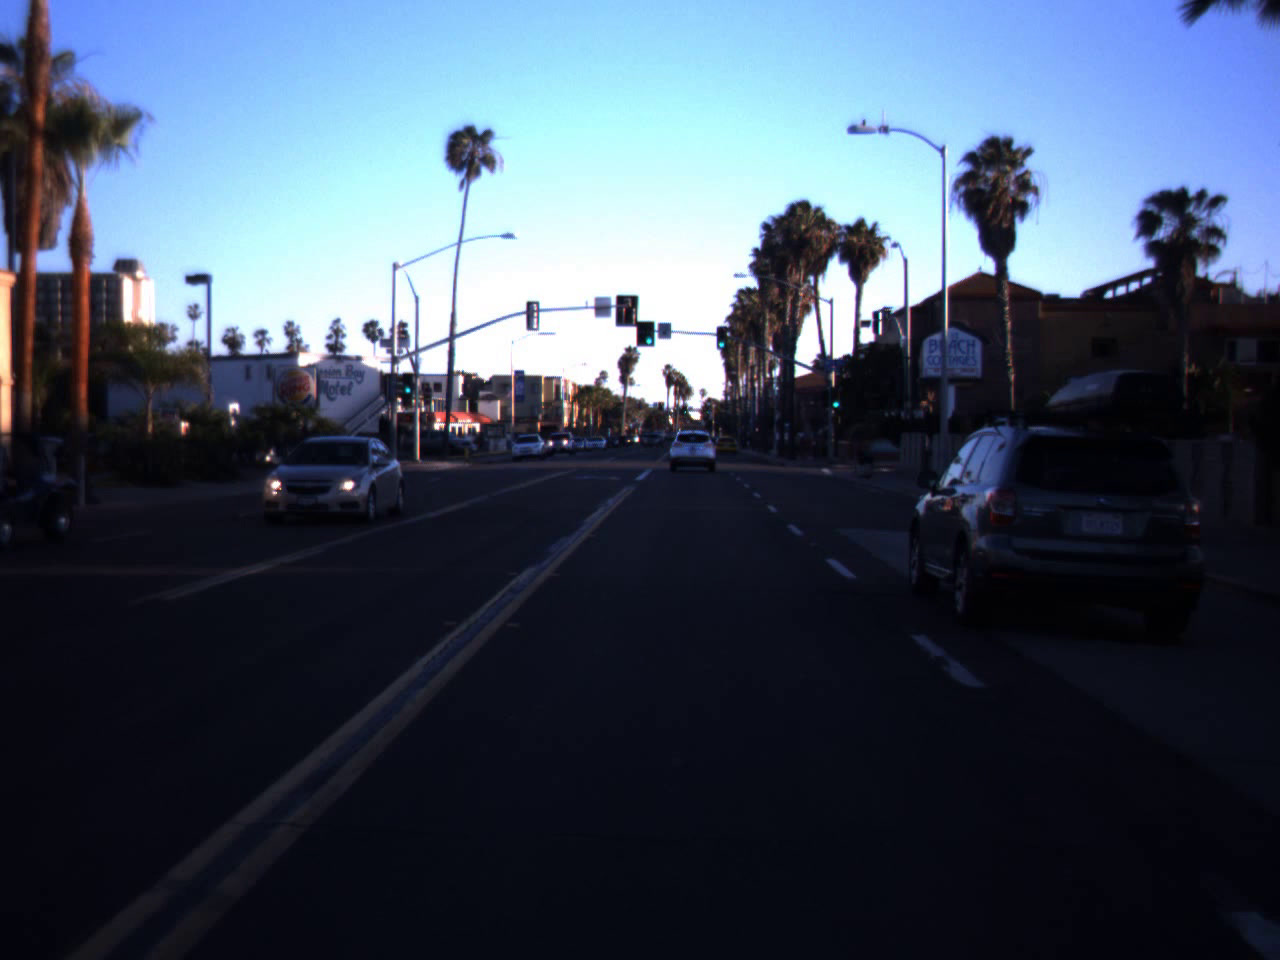go: (643, 321, 655, 346), (402, 374, 414, 394), (716, 329, 728, 349), (830, 388, 842, 408)
